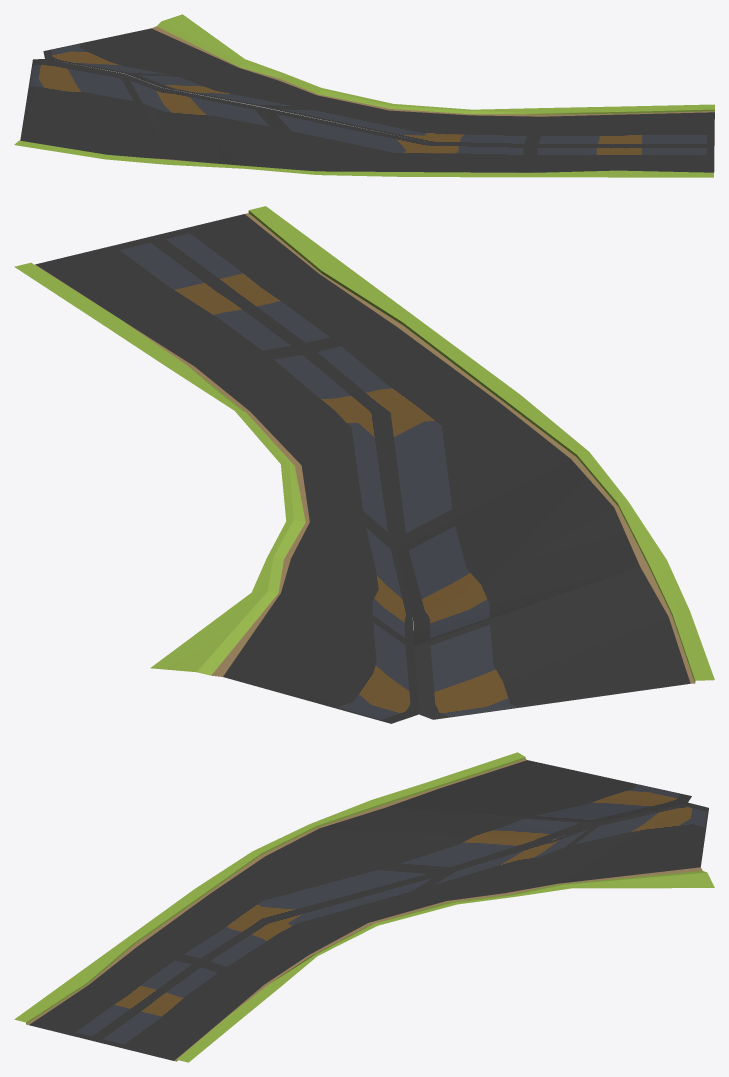
The model's file is fork_3.fbx.
3 views of the same model, one above another, from view 1: azimuth 30°, elevation 25°; view 2: azimuth 150°, elevation 25°; view 3: azimuth 270°, elevation 25° (orthographic). The views are drawn at different scales.
Parts seen in each view (by area): view 1: fork_3; view 2: fork_3; view 3: fork_3.
Part boxes in pixels (box(x1,y1,x2,y2)): fork_3: box(14, 14, 714, 177); fork_3: box(14, 206, 714, 723); fork_3: box(14, 752, 714, 1062).
Size of the model in its own units: 68.77 by 1.44 by 63.89.
